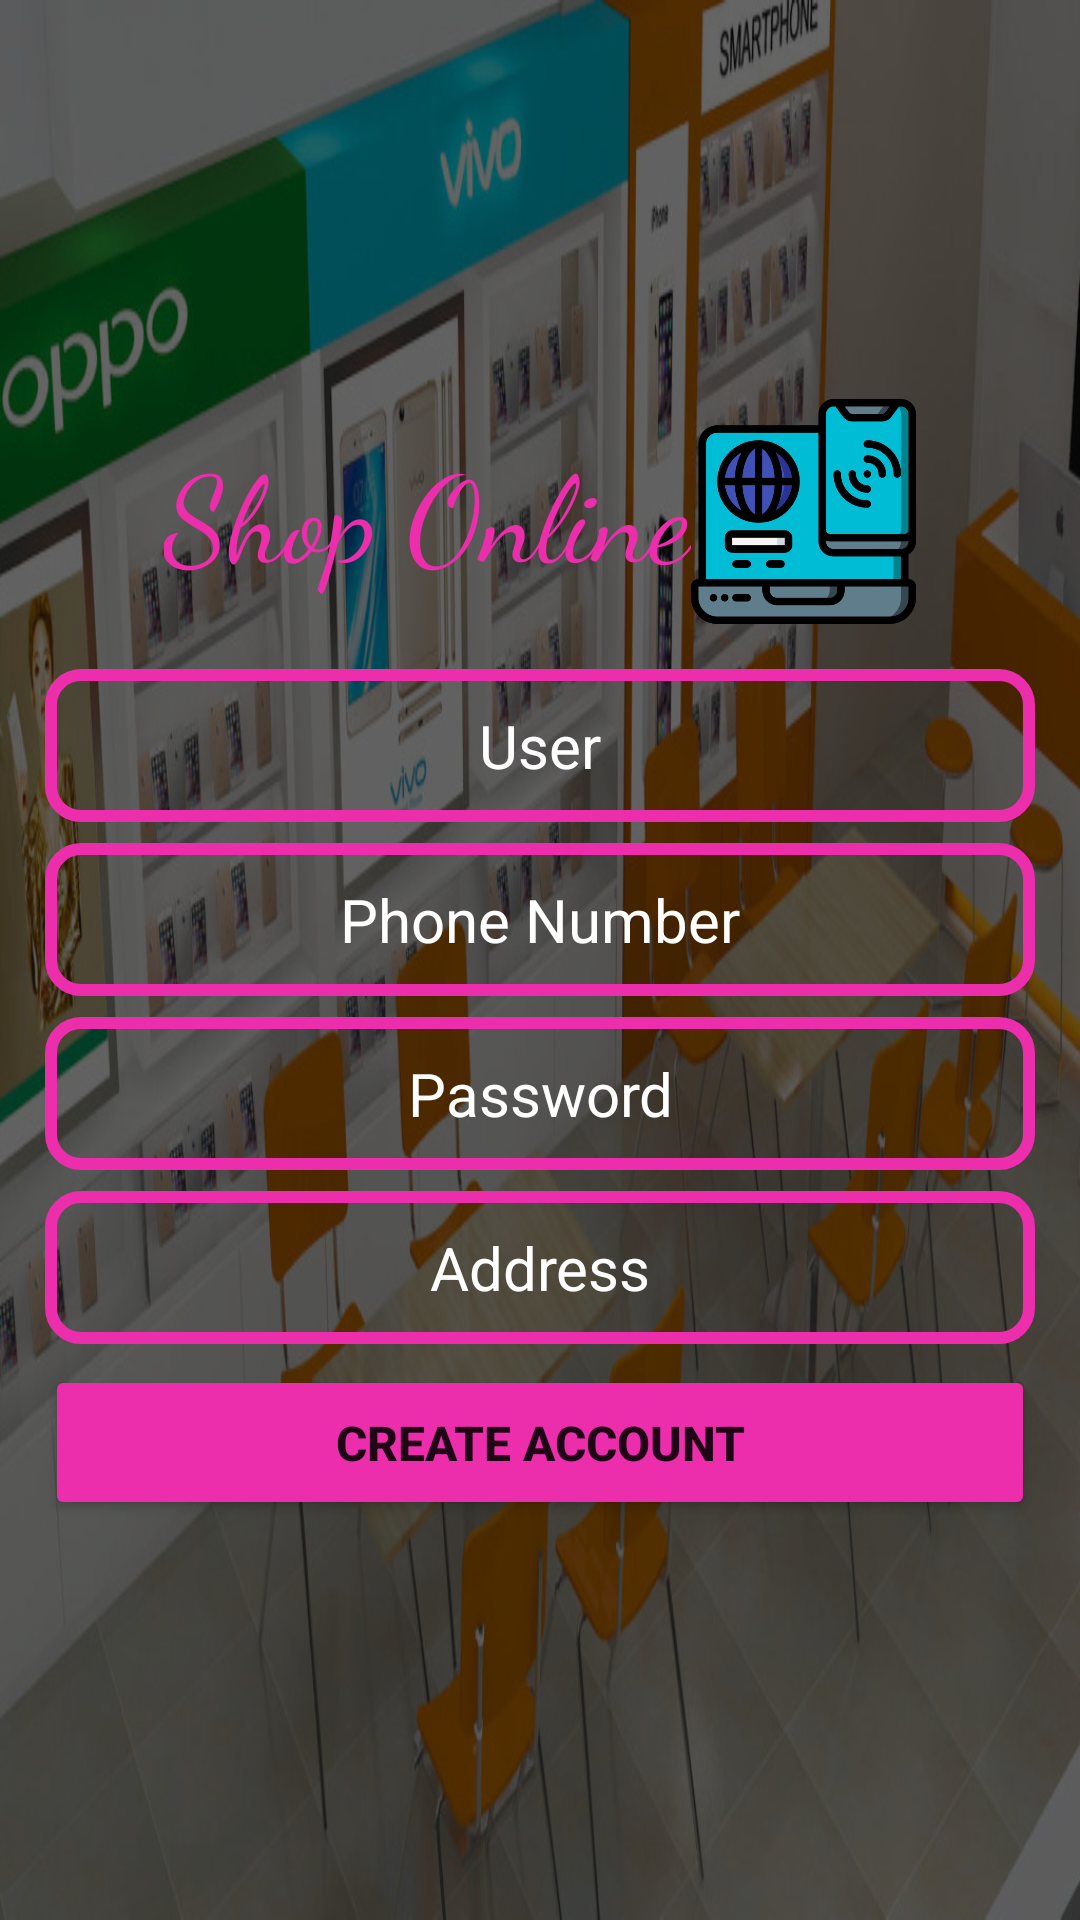

Where to tap for icons on this 1080 x 1920 app screen, as point (x, y):
laptop: point (803, 511)
